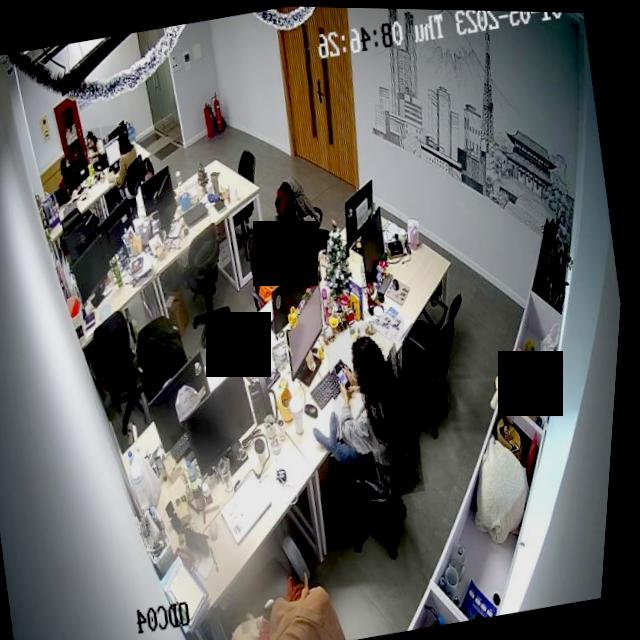person: (319, 312, 441, 504), (100, 120, 147, 191), (85, 127, 107, 162)
